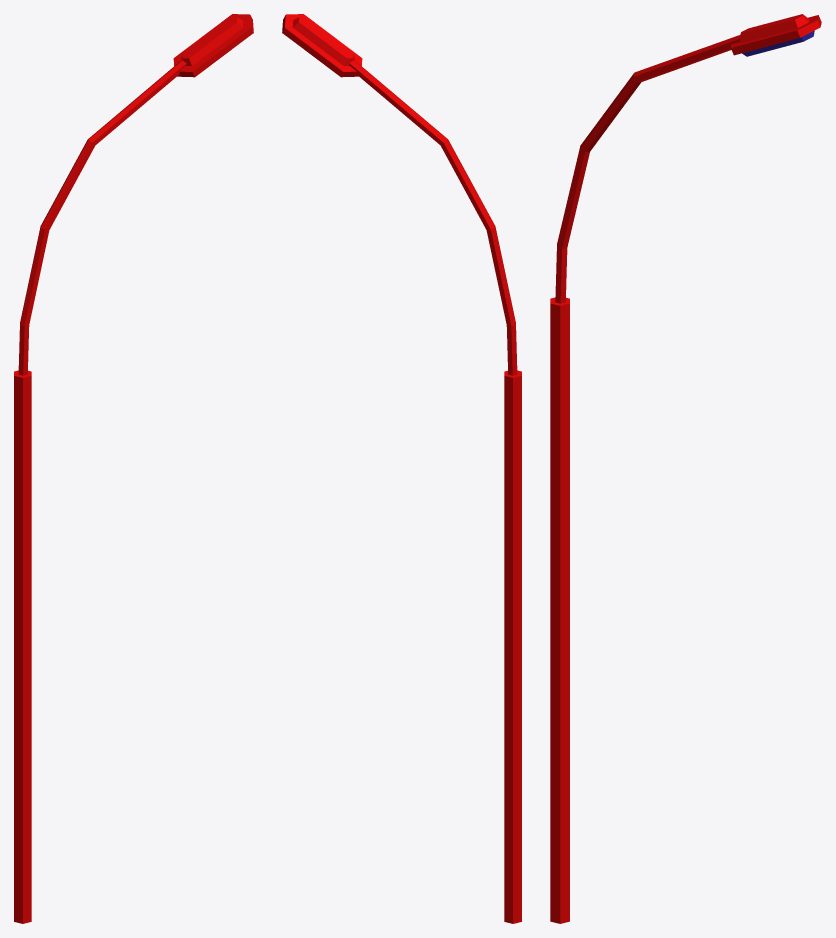
Rendered from SM_spotlight.fbx.
3 views of the same model, side by side, from view 1: azimuth 30°, elevation 25°; view 2: azimuth 150°, elevation 25°; view 3: azimuth 330°, elevation 25° (orthographic). The views are drawn at different scales.
Visible parts, largest first — view 1: spotlight; view 2: spotlight; view 3: spotlight.
Boxes of the visible parts, x1,y1,x2,y2 form: spotlight: [14, 14, 253, 923]; spotlight: [282, 14, 521, 923]; spotlight: [550, 14, 821, 923].
Bounding box in the file's own units: 168 × 570 × 22.89.
